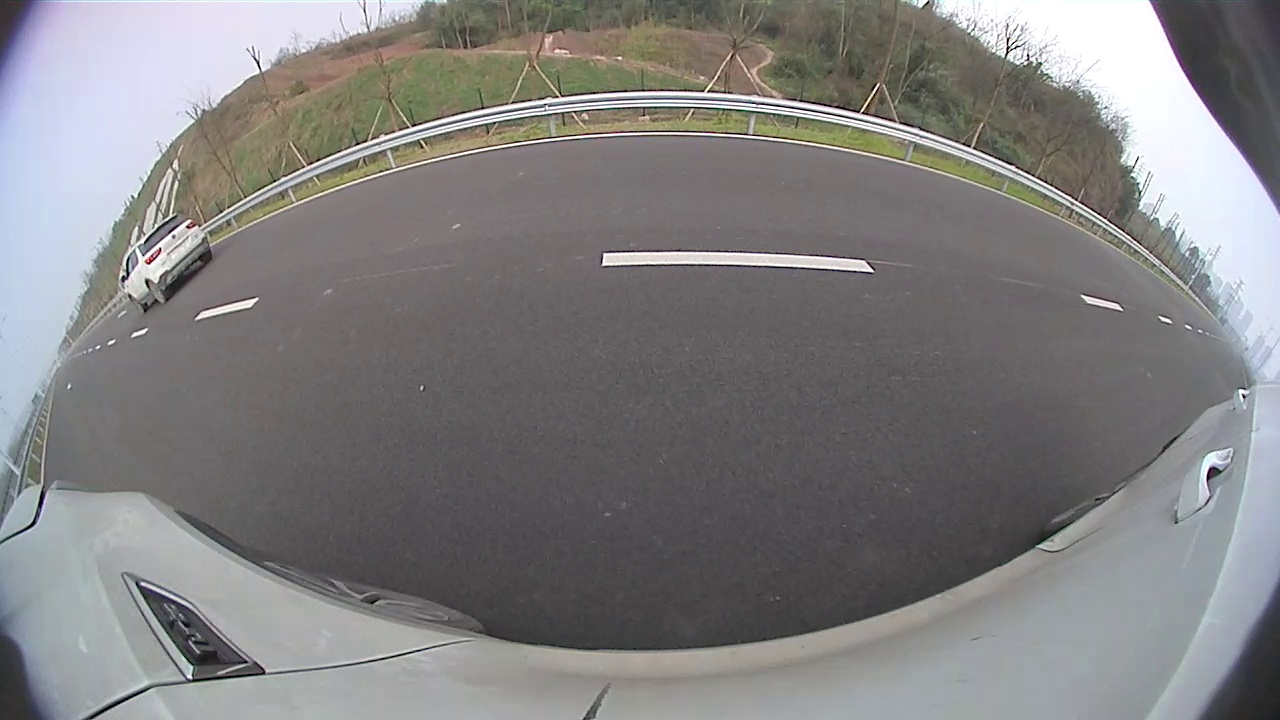car: (119, 212, 213, 315)
rear: (145, 277, 169, 305)
